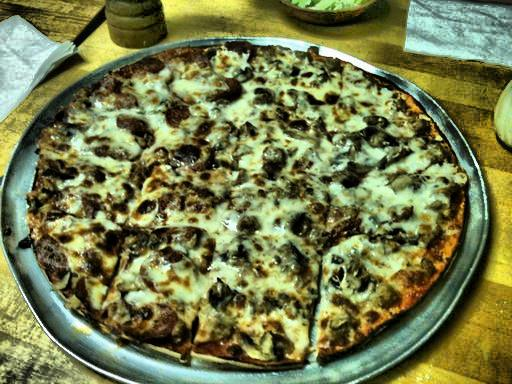pizza: (39, 47, 482, 360)
